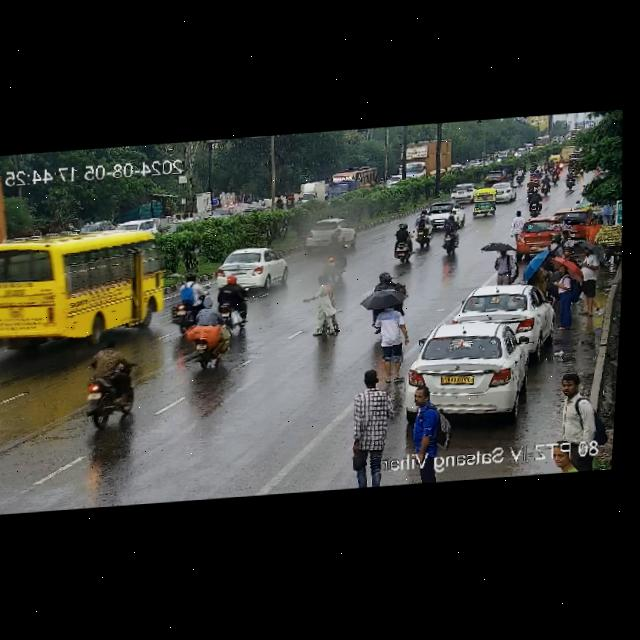bus: (0, 221, 174, 349), (317, 165, 378, 197)
car: (396, 316, 550, 424), (447, 282, 555, 344), (218, 245, 291, 290), (512, 218, 563, 253), (307, 216, 358, 249), (417, 200, 460, 223), (470, 192, 499, 217), (446, 182, 480, 202), (492, 183, 519, 203)
motorcycle: (84, 336, 143, 425), (514, 165, 582, 213), (184, 306, 230, 370), (212, 277, 255, 329), (171, 270, 203, 327), (437, 216, 469, 255), (388, 224, 417, 263), (324, 235, 349, 273), (409, 215, 436, 246), (374, 272, 401, 299)
person: (325, 369, 400, 491), (535, 373, 599, 475), (297, 251, 353, 349), (407, 389, 454, 485), (570, 243, 607, 324), (365, 312, 411, 367), (546, 260, 579, 323), (490, 242, 523, 286), (582, 216, 600, 243)
truck: (384, 139, 461, 186)
